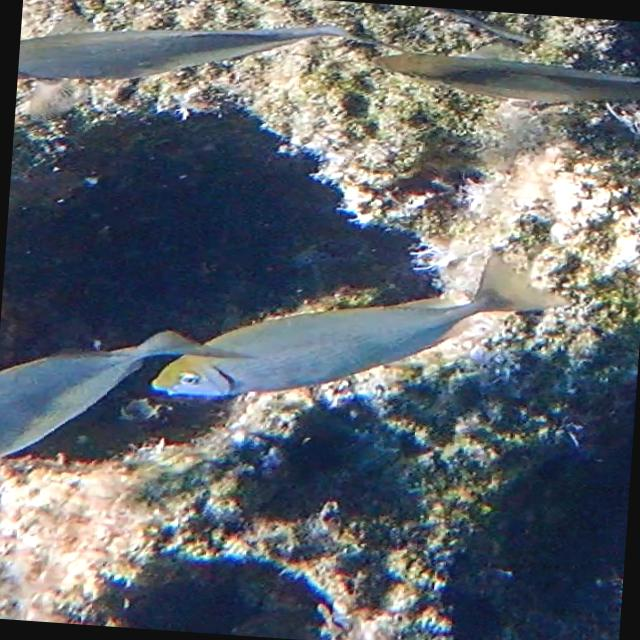Sokar Baligi: (132, 217, 586, 438)
